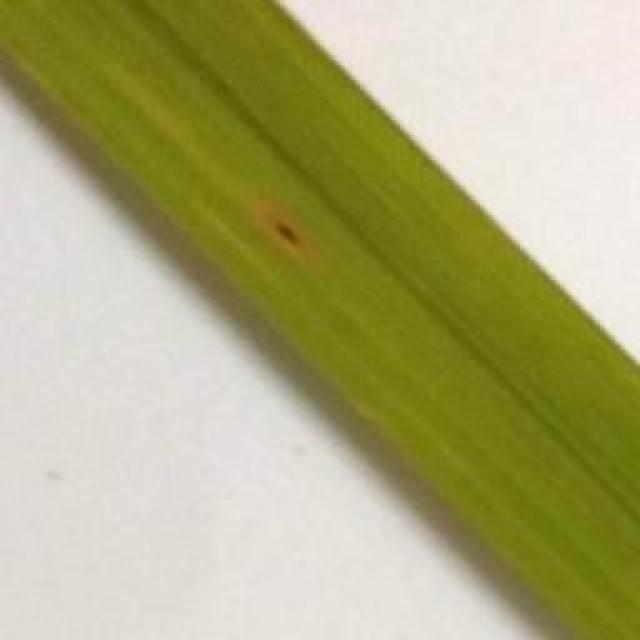Brown_Spot: (258, 212, 312, 256)
